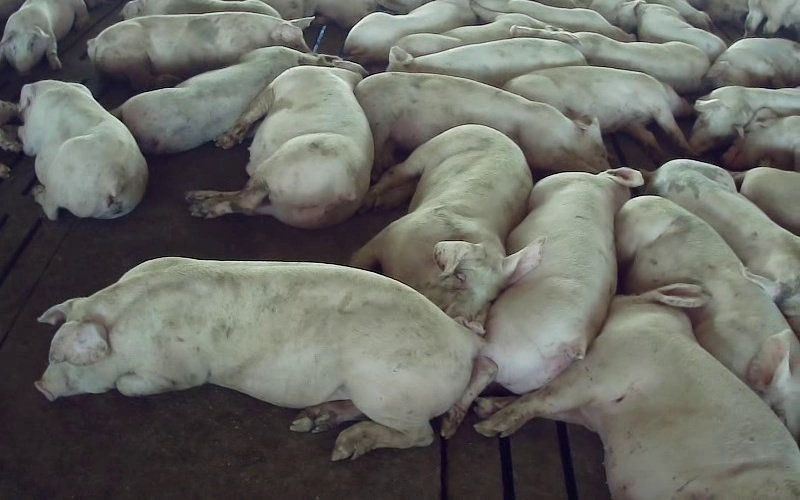pig: (36, 257, 481, 458), (475, 284, 799, 499), (615, 196, 799, 442), (186, 60, 373, 227), (645, 159, 799, 337), (355, 72, 608, 177), (113, 46, 328, 153), (19, 80, 147, 219), (87, 12, 311, 89), (504, 66, 689, 153), (510, 26, 709, 93), (387, 38, 586, 86), (396, 2, 551, 56), (343, 0, 476, 62), (689, 86, 799, 153), (0, 0, 87, 74), (637, 3, 726, 61), (706, 38, 799, 87)
